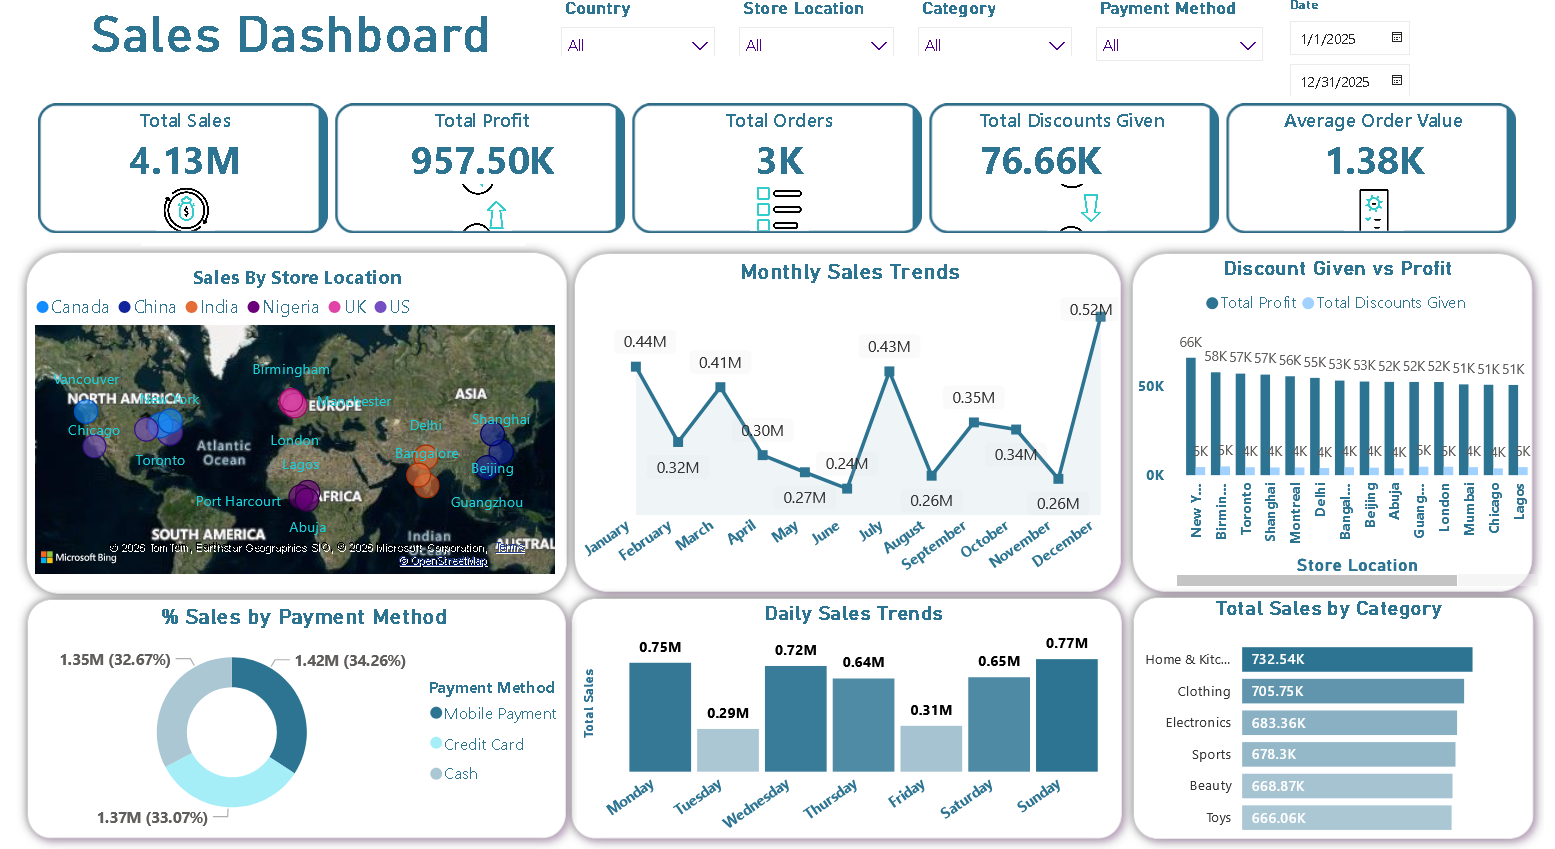

Layout of this report page (visuals, bound fields, positions):
{"tool":"powerbi","page":{"name":"Página 1","canvas":[1280,720],"ordinal":0},"visuals":[{"type":"cardVisual","fields":{"Data":["public Sales Data.Total Sales","public Sales Data.Total Profit","public Sales Data.Total Orders","public Sales Data.Total Discount","public Sales Data.Average Order Value"]},"box":[12,89,1255,121],"z":0},{"type":"textbox","box":[18,7,423,82],"z":1000},{"type":"slicer","fields":{"Values":["public Sales Data.Country"]},"box":[446,0,149,55],"z":2000},{"type":"slicer","fields":{"Values":["public Sales Data.Store Location"]},"box":[595,0,150,55],"z":3000},{"type":"slicer","fields":{"Values":["public Sales Data.Category"]},"box":[745,0,149,55],"z":4000},{"type":"slicer","fields":{"Values":["public Sales Data.Payment Method"]},"box":[894,0,160,69],"z":5000},{"type":"slicer","fields":{"Values":["public Sales Data.Date"]},"box":[1054,0,217,89],"z":6000},{"type":"shape","box":[0,212,469,302],"z":7000},{"type":"map","fields":{"Size":["public Sales Data.Total Sales"],"Category":["public Sales Data.Store Location"],"Series":["public Sales Data.Country"]},"box":[10,245,446,250],"z":8000},{"type":"textbox","box":[61.2,225,347.5,33.8],"z":9000},{"type":"shape","box":[458.5,212,476,301.4],"z":10000},{"type":"areaChart","title":"Monthly Sales Trends","fields":{"Category":["public Sales Data.Month Name"],"Y":["public Sales Data.Total Sales"]},"box":[468.9,225.6,458.9,282.2],"z":11000},{"type":"shape","box":[456,501,479,219],"z":12000},{"type":"columnChart","title":"Daily Sales Trends","fields":{"Category":["public Sales Data.Day Name"],"Y":["public Sales Data.Total Sales"]},"box":[468.9,512.2,465.6,207.8],"z":13000},{"type":"shape","box":[0,502,469,218],"z":14000},{"type":"donutChart","title":"% Sales by Payment Method","fields":{"Category":["public Sales Data.Payment Method"],"Y":["public Sales Data.Total Sales"]},"box":[10,515,461,194],"z":15000},{"type":"shape","box":[926.5,212,353,301.4],"z":16000},{"type":"shape","box":[927,500,353,220],"z":17000},{"type":"clusteredColumnChart","title":"Discount Given vs Profit","fields":{"Category":["public Sales Data.Store Location"],"Y":["public Sales Data.Total Profit","public Sales Data.Total Discounts Given"]},"box":[934.4,223.3,345.6,282.2],"z":18000},{"type":"barChart","fields":{"Y":["public Sales Data.Total Sales"],"Category":["public Sales Data.Category"]},"box":[928,508,343,212],"z":19000}]}

Visuals, with their boxes in screenshot pixels (x1, y1, x2, y2):
cardVisual - public Sales Data.Total Sales x public Sales Data.Total Profit: (34, 100, 1496, 241)
textbox: (41, 4, 534, 100)
slicer - public Sales Data.Country: (540, 0, 713, 60)
slicer - public Sales Data.Store Location: (713, 0, 888, 60)
slicer - public Sales Data.Category: (888, 0, 1062, 60)
slicer - public Sales Data.Payment Method: (1062, 0, 1248, 76)
slicer - public Sales Data.Date: (1248, 0, 1501, 100)
shape: (20, 243, 567, 595)
map - public Sales Data.Total Sales x public Sales Data.Store Location: (32, 281, 551, 573)
textbox: (92, 258, 496, 297)
shape: (554, 243, 1109, 594)
"Monthly Sales Trends" areaChart: (566, 259, 1101, 587)
shape: (551, 579, 1109, 835)
"Daily Sales Trends" columnChart: (566, 593, 1109, 835)
shape: (20, 581, 567, 835)
"% Sales by Payment Method" donutChart: (32, 596, 569, 822)
shape: (1099, 243, 1511, 594)
shape: (1100, 578, 1511, 835)
"Discount Given vs Profit" clusteredColumnChart: (1109, 256, 1511, 585)
barChart - public Sales Data.Total Sales x public Sales Data.Category: (1101, 588, 1501, 835)
